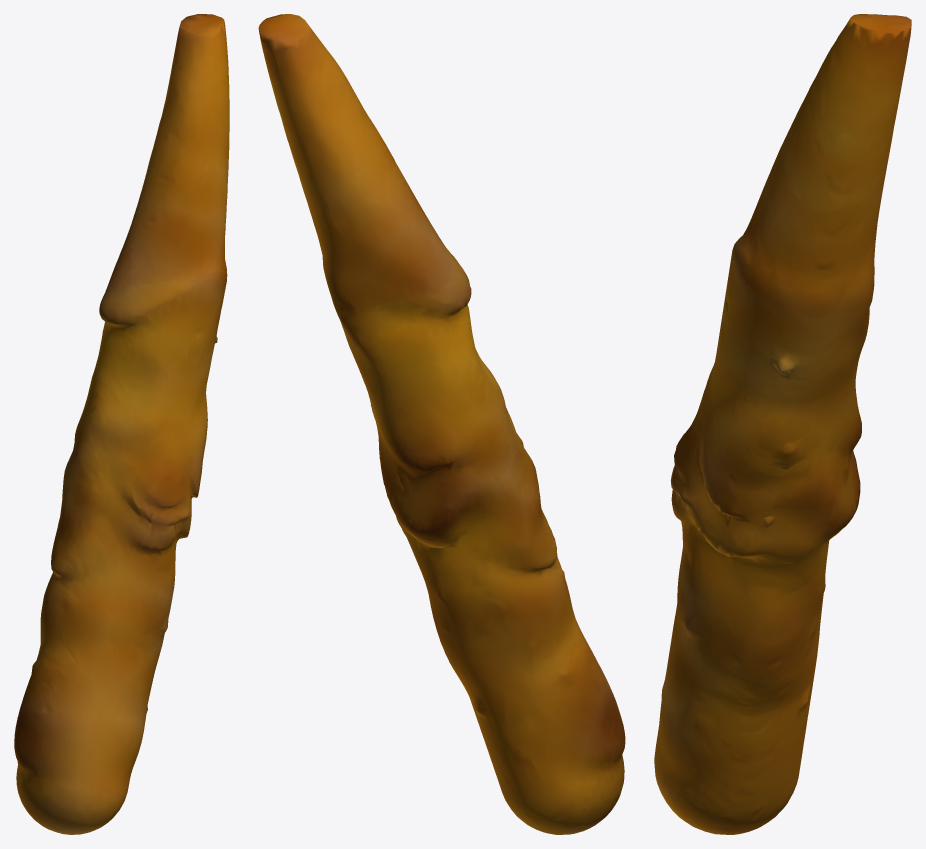
The model's file is Lava_00.fbx.
3 views of the same model, side by side, from view 1: azimuth 30°, elevation 25°; view 2: azimuth 150°, elevation 25°; view 3: azimuth 270°, elevation 25° (orthographic). The views are drawn at different scales.
Parts seen in each view (by area): view 1: Lava_LOD0; view 2: Lava_LOD0; view 3: Lava_LOD0.
Part boxes in pixels (x1,y1,x2,y2): Lava_LOD0: (14, 14, 229, 834); Lava_LOD0: (258, 14, 625, 834); Lava_LOD0: (654, 14, 911, 834).
Size of what is drawn, in the model's own units: 113 by 297 by 74.44.
